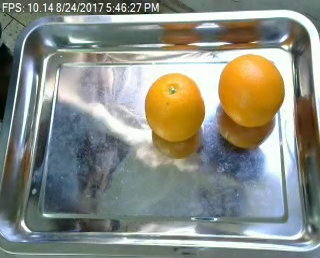Orange: (216, 54, 285, 127), (145, 73, 206, 141)
